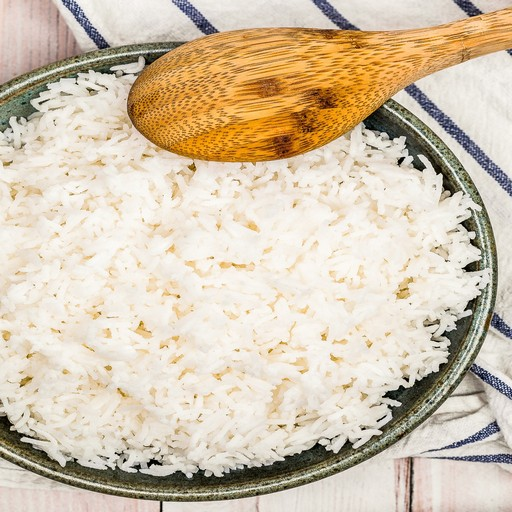rice: (50, 173, 285, 400)
